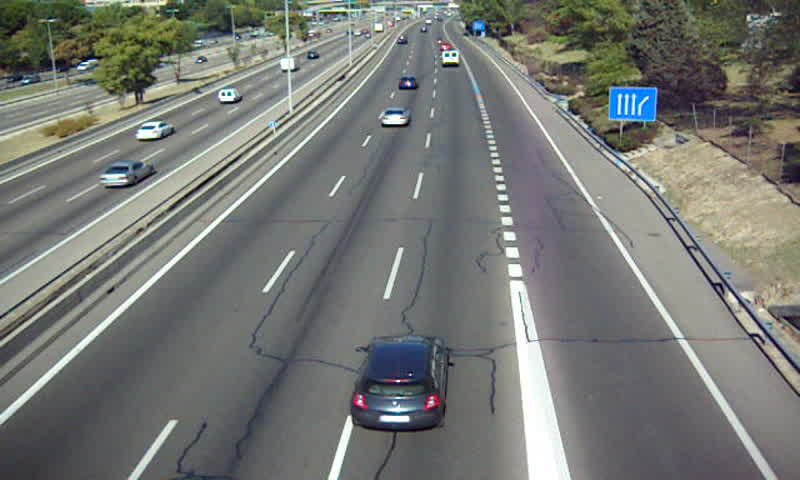car: (353, 338, 450, 432), (379, 106, 410, 128), (398, 75, 418, 92)
van: (441, 50, 460, 66)
